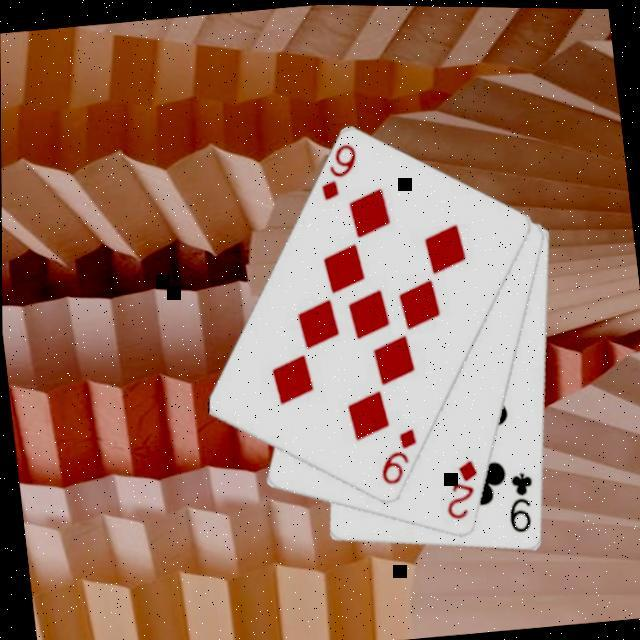2D: (437, 455, 483, 524)
9C: (500, 466, 540, 536)
9D: (370, 424, 422, 488), (311, 140, 363, 204)
